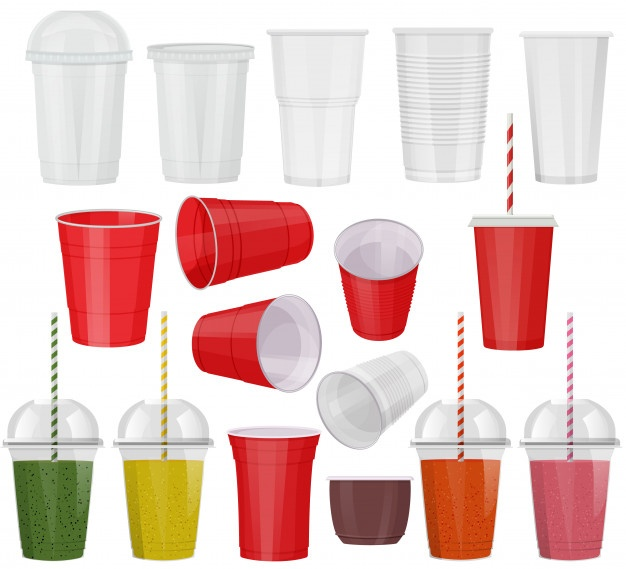plastic_bottle: (22, 4, 138, 191), (517, 394, 625, 568), (386, 24, 500, 187), (1, 393, 108, 564), (264, 25, 374, 190), (143, 36, 259, 191), (408, 395, 514, 564), (110, 397, 213, 567), (514, 27, 618, 186), (55, 206, 163, 351), (183, 291, 327, 397), (167, 193, 320, 292), (464, 210, 562, 355), (225, 421, 323, 566), (331, 215, 427, 344), (317, 466, 416, 549)
